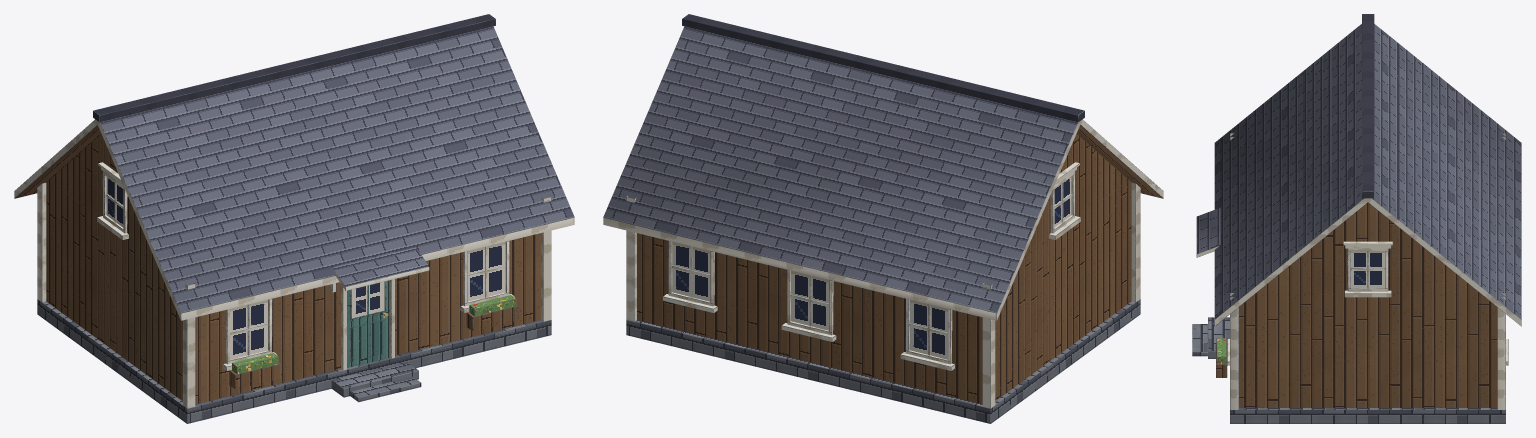
The model's file is town_house_13.glb.
The picture shows the model from 3 angles, left to right: view 1: azimuth 30°, elevation 25°; view 2: azimuth 150°, elevation 25°; view 3: azimuth 270°, elevation 25°; orthographic projection. The views are drawn at different scales.
Visible parts, largest first — view 1: town_house_14; view 2: town_house_14; view 3: town_house_14.
Boxes of the visible parts, x1=… form: town_house_14: x1=14, y1=14, x2=574, y2=423; town_house_14: x1=603, y1=14, x2=1163, y2=423; town_house_14: x1=1192, y1=14, x2=1521, y2=423.
Bounding box in the file's own units: 9.46 × 5.93 × 7.4.
10 materials, 10 textured.
